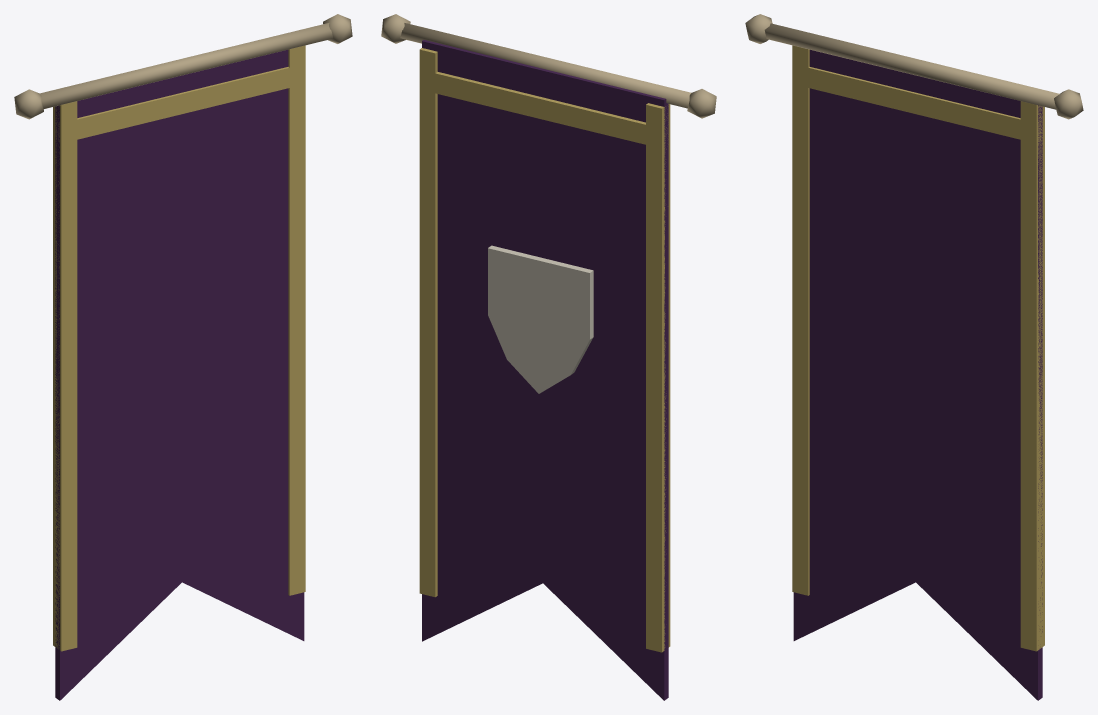
The model's file is snowman_gangsta_banner_v0.glb.
3 views of the same model, side by side, from view 1: azimuth 30°, elevation 25°; view 2: azimuth 150°, elevation 25°; view 3: azimuth 330°, elevation 25° (orthographic).
Parts seen in each view (by area): view 1: snowman_gangsta_banner_v0; view 2: snowman_gangsta_banner_v0; view 3: snowman_gangsta_banner_v0.
Part boxes in pixels (x1,y1,x2,y2): snowman_gangsta_banner_v0: [14, 14, 352, 700]; snowman_gangsta_banner_v0: [381, 14, 716, 700]; snowman_gangsta_banner_v0: [745, 14, 1083, 700].
Size of the model in its own units: 1.04 by 1.84 by 0.0933.
